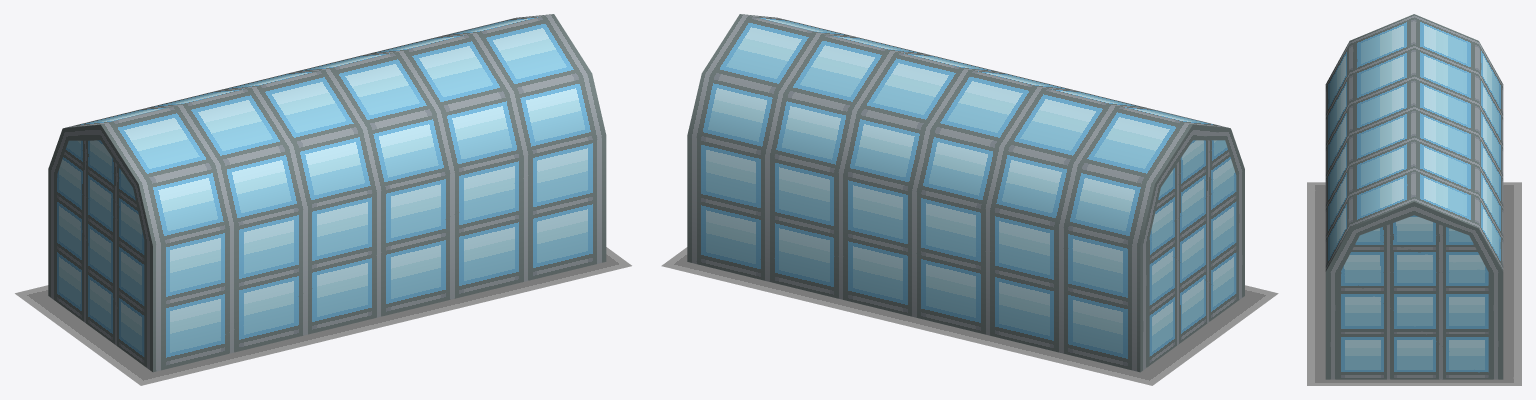
3 renders of one model, left to right at view 1: azimuth 30°, elevation 25°; view 2: azimuth 150°, elevation 25°; view 3: azimuth 270°, elevation 25°, orthographic. The views are drawn at different scales.
Visible parts, largest first — view 1: polygon0, polygon1; view 2: polygon0, polygon1; view 3: polygon0, polygon1.
Part boxes in pixels (bbox=[...]): polygon0: bbox=[48, 14, 606, 372]; polygon1: bbox=[15, 247, 631, 385]; polygon0: bbox=[687, 14, 1244, 372]; polygon1: bbox=[661, 247, 1278, 385]; polygon0: bbox=[1325, 14, 1503, 379]; polygon1: bbox=[1307, 182, 1521, 385].
Size of the model in its own units: 8.13 by 3.31 by 3.62.
